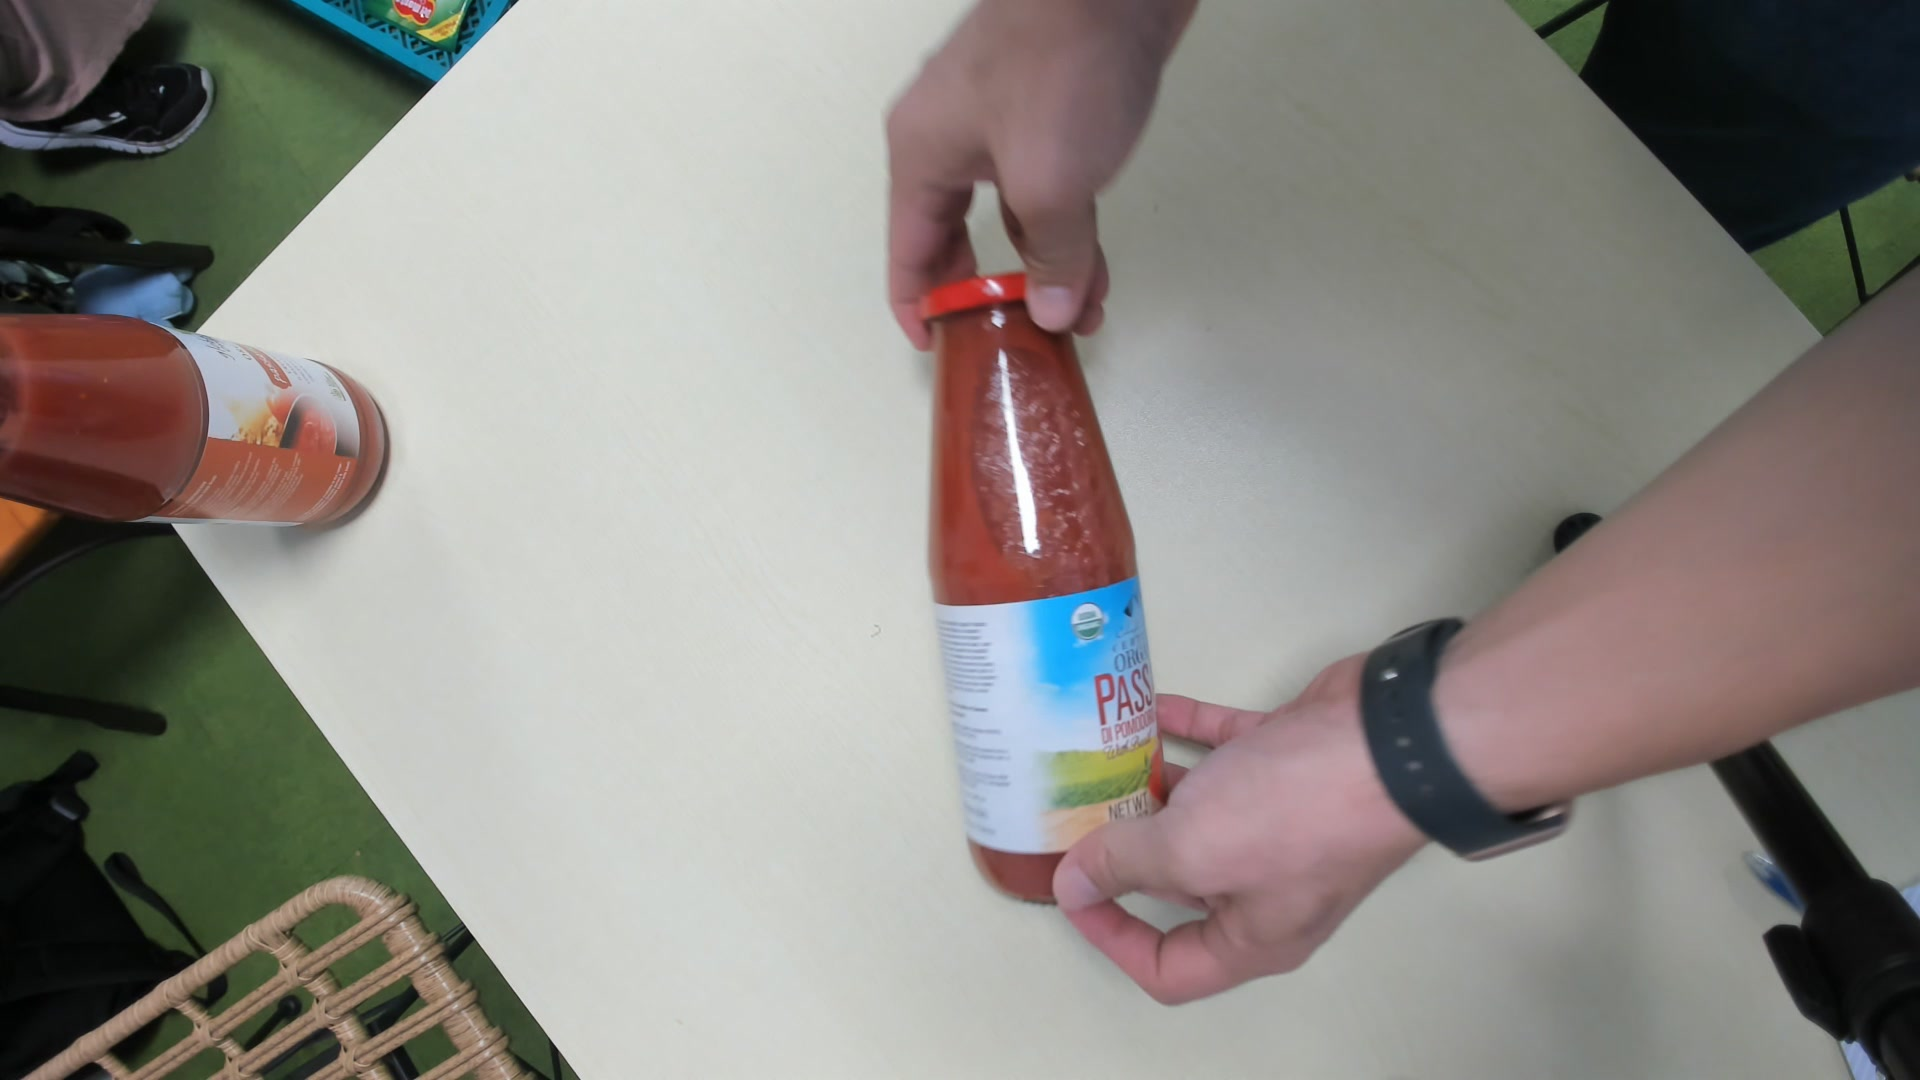PastaSauce_600-699g_NonHalal_NonHealthy: (916, 269, 1172, 907)
